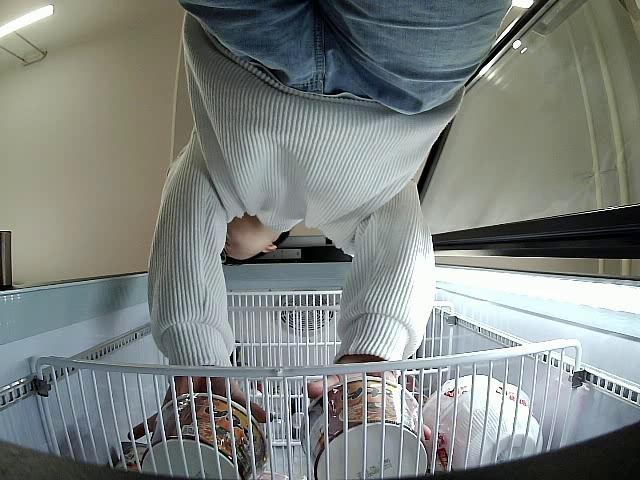05_nuguri_L: (300, 376, 430, 480), (142, 395, 266, 480)
